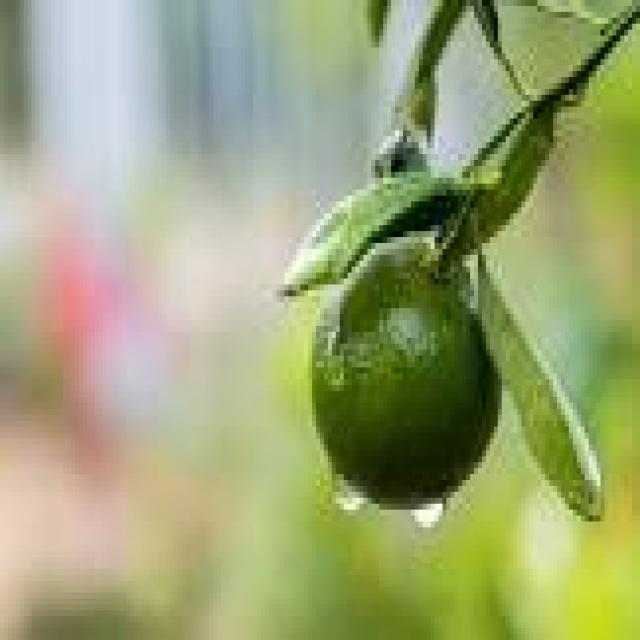orange: (312, 243, 498, 504)
